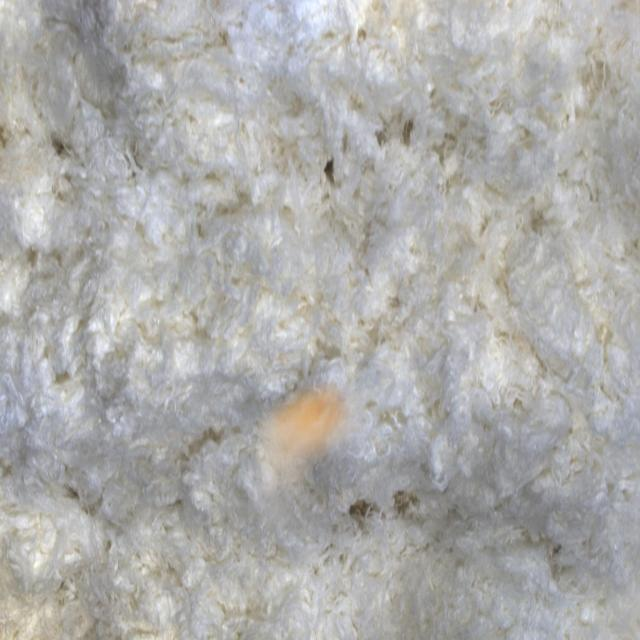dust: (249, 377, 371, 524)
